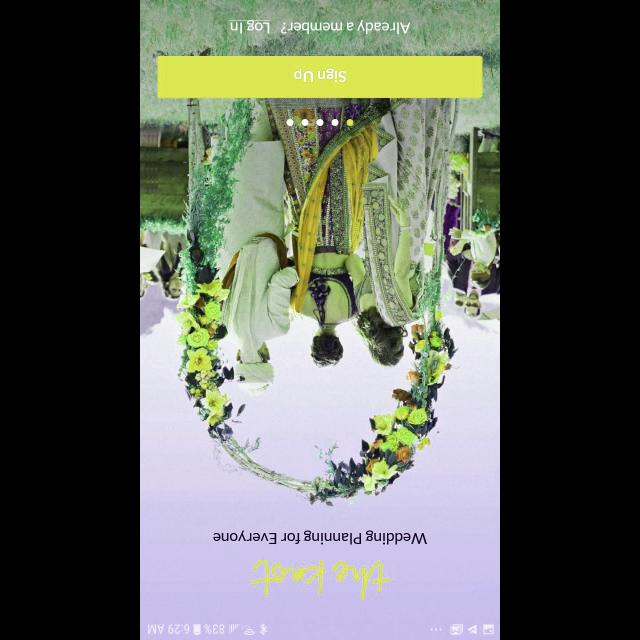backgroundimage: (140, 4, 500, 622)
image: (250, 558, 390, 600)
pageindicator: (286, 118, 354, 126)
text: (213, 530, 427, 544), (281, 20, 411, 34), (230, 20, 270, 34)
textbutton: (158, 56, 482, 98)
uppertaskbar: (140, 622, 500, 640)
